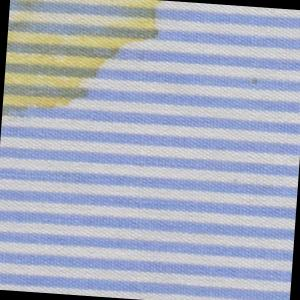Oil Stain: (3, 1, 166, 126)
